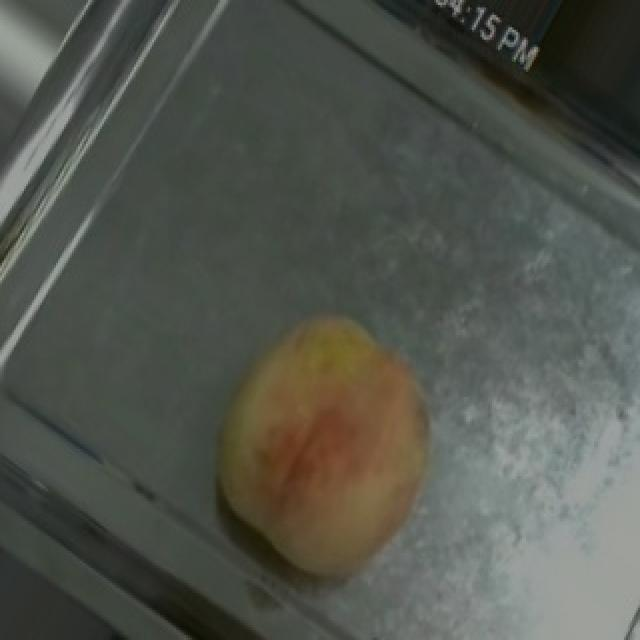Fruit: (168, 278, 484, 610)
